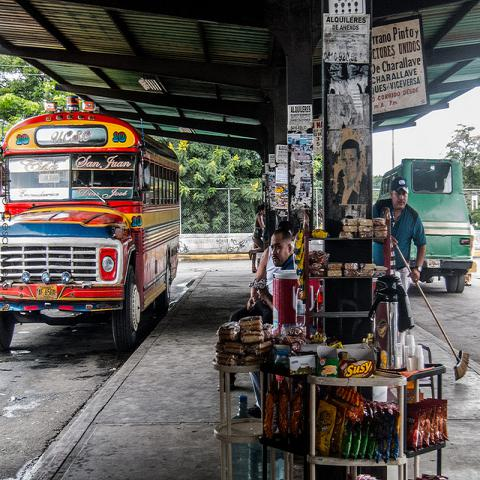bus: (1, 105, 182, 354), (374, 158, 473, 294)
truck: (382, 158, 476, 293)
